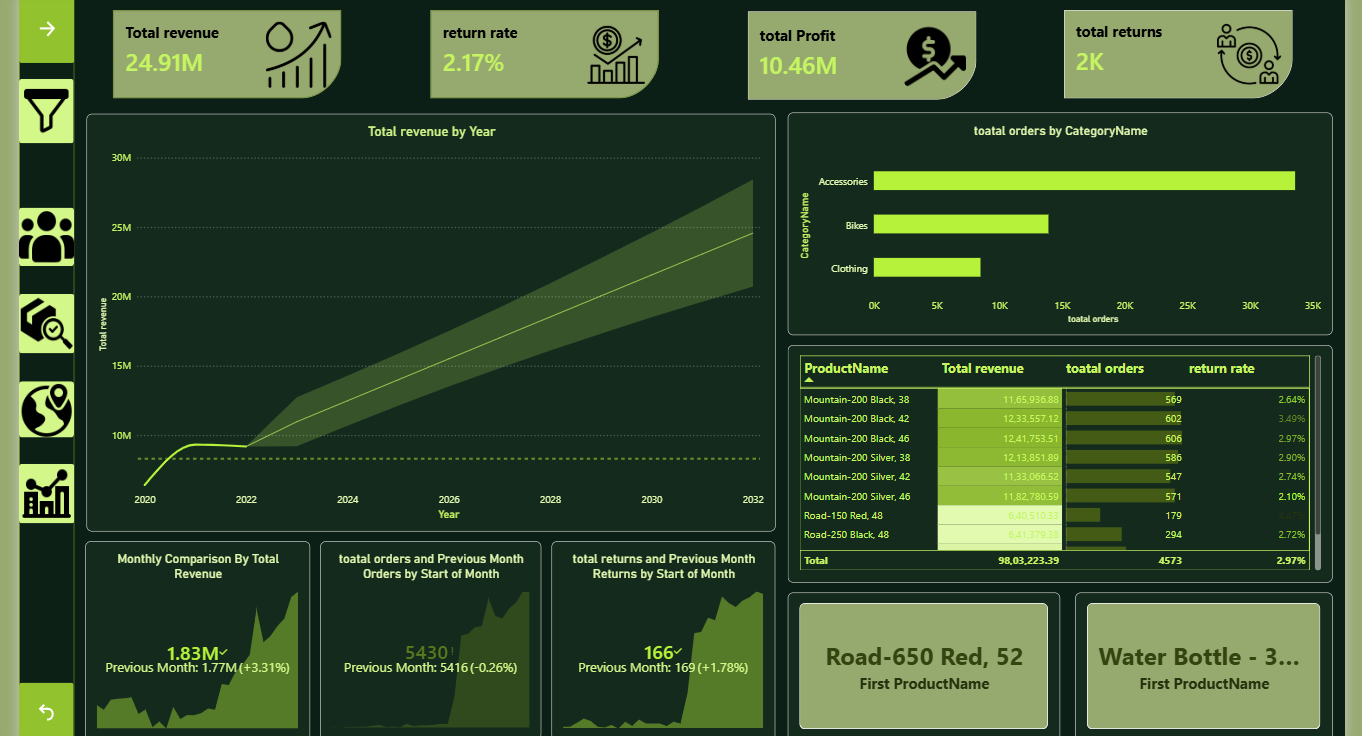

The page's visual inventory and layout, read from the dashboard file:
{"tool":"powerbi","page":{"name":"Executive analysis","canvas":[1920,1080],"ordinal":0},"visuals":[{"type":"cardVisual","fields":{"Data":["Measure Table.Total revenue"]},"box":[136.1,22.4,331.2,128.5],"z":0},{"type":"cardVisual","fields":{"Data":["Measure Table.total returns"]},"box":[1513.2,22.4,331.2,128.5],"z":1000},{"type":"cardVisual","fields":{"Data":["Measure Table.total Profit"]},"box":[1054.2,23.5,331.2,128.5],"z":2000},{"type":"cardVisual","fields":{"Data":["Measure Table.return rate"]},"box":[595.1,21.7,331.2,128.5],"z":3000},{"type":"cardVisual","fields":{"Data":["Min(Product Lookup.ProductName)"]},"box":[1529.2,865,372.8,215.3],"z":4000},{"type":"cardVisual","fields":{"Data":["Min(Product Lookup.ProductName)"]},"box":[1112.9,865,394.5,215.3],"z":5000},{"type":"tableEx","fields":{"Values":["Product Lookup.ProductName","Measure Table.Total revenue","Measure Table.toatal orders","Measure Table.return rate"]},"box":[1112.9,506.7,789,343.8],"z":6000},{"type":"lineChart","fields":{"Category":["Calendar Lookup.Year"],"Y":["Measure Table.Total revenue"]},"box":[96.8,171.3,998,605.1],"z":7000},{"type":"barChart","fields":{"Category":["Product Categories Lookup.CategoryName"],"Y":["Measure Table.toatal orders"]},"box":[1112.9,170.1,789,322.1],"z":8000},{"type":"shape","box":[0,0,80.3,1080.6],"z":9000},{"type":"actionButton","box":[0,559.2,79.6,81.4],"z":10000},{"type":"actionButton","box":[0,678.6,80.3,86.4],"z":11000},{"type":"actionButton","box":[0,432.5,80.3,86.4],"z":12000},{"type":"actionButton","box":[0,307.6,79.6,85.1],"z":13000},{"type":"actionButton","box":[0,0,80.3,98.8],"z":14000},{"type":"actionButton","box":[0,995.5,79.3,85.6],"z":15000},{"type":"actionButton","box":[0,121,79.3,93.9],"z":16000},{"type":"kpi","fields":{"Goal":["Measure Table.Previous Month Returns"],"Indicator":["Measure Table.total returns"],"TrendLine":["Calendar Lookup.Start of Month"]},"box":[770.9,790.8,323.9,287.7],"z":18000},{"type":"kpi","title":"Monthly Comparison By Total Revenue","fields":{"Goal":["Measure Table.Previous Month Revenue"],"Indicator":["Measure Table.Total revenue"],"TrendLine":["Calendar Lookup.Start of Month"]},"box":[96,791,325.6,288],"z":19000},{"type":"kpi","fields":{"Goal":["Measure Table.Previous Month Orders"],"Indicator":["Measure Table.toatal orders"],"TrendLine":["Calendar Lookup.Start of Month"]},"box":[436.2,791,320,287],"z":20000}]}

Visuals, with their boxes on the page's 1920x1080 design canvas (x1, y1, x2, y2). These are canvas units, not pixel positions in the 1362x736 screenshot, which may show the page scaled, cropped or inside an application window:
cardVisual - Measure Table.Total revenue: 136,22,467,151
cardVisual - Measure Table.total returns: 1513,22,1844,151
cardVisual - Measure Table.total Profit: 1054,24,1385,152
cardVisual - Measure Table.return rate: 595,22,926,150
cardVisual - Min(Product Lookup.ProductName): 1529,865,1902,1080
cardVisual - Min(Product Lookup.ProductName): 1113,865,1507,1080
tableEx - Product Lookup.ProductName x Measure Table.Total revenue: 1113,507,1902,850
lineChart - Calendar Lookup.Year x Measure Table.Total revenue: 97,171,1095,776
barChart - Product Categories Lookup.CategoryName x Measure Table.toatal orders: 1113,170,1902,492
shape: 0,0,80,1081
actionButton: 0,559,80,641
actionButton: 0,679,80,765
actionButton: 0,432,80,519
actionButton: 0,308,80,393
actionButton: 0,0,80,99
actionButton: 0,996,79,1081
actionButton: 0,121,79,215
kpi - Measure Table.Previous Month Returns x Measure Table.total returns: 771,791,1095,1078
"Monthly Comparison By Total Revenue" kpi: 96,791,422,1079
kpi - Measure Table.Previous Month Orders x Measure Table.toatal orders: 436,791,756,1078
